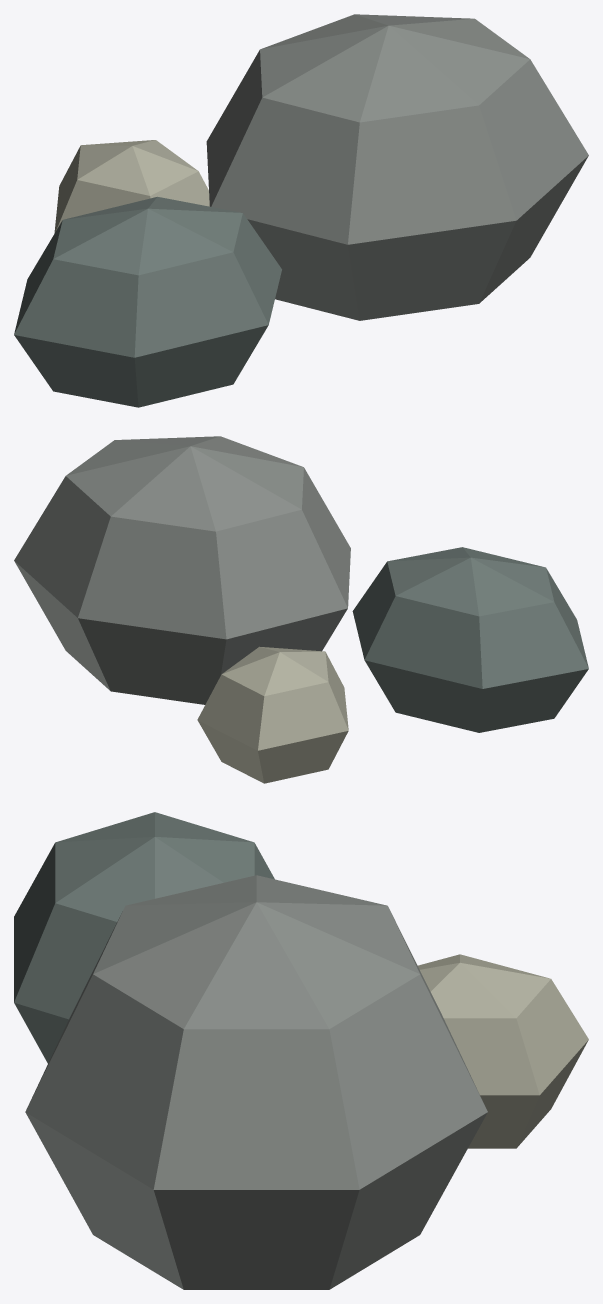
Rendered from RockGroup.obj.
The picture shows the model from 3 angles, top to bottom: view 1: azimuth 30°, elevation 25°; view 2: azimuth 150°, elevation 25°; view 3: azimuth 270°, elevation 25°; orthographic projection. The views are drawn at different scales.
Visible parts, largest first — view 1: RockGroup; view 2: RockGroup; view 3: RockGroup.
Boxes of the visible parts, x1,y1,x2,y2 form: RockGroup: (14, 14, 588, 407); RockGroup: (14, 436, 588, 783); RockGroup: (14, 812, 588, 1289).
Bounding box in the file's own units: 2.57 × 1.2 × 1.7.
